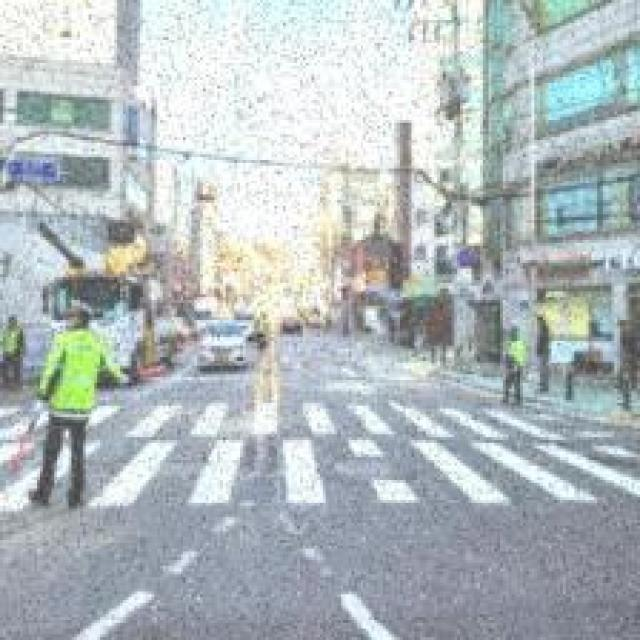crosswalk: (2, 382, 640, 506)
